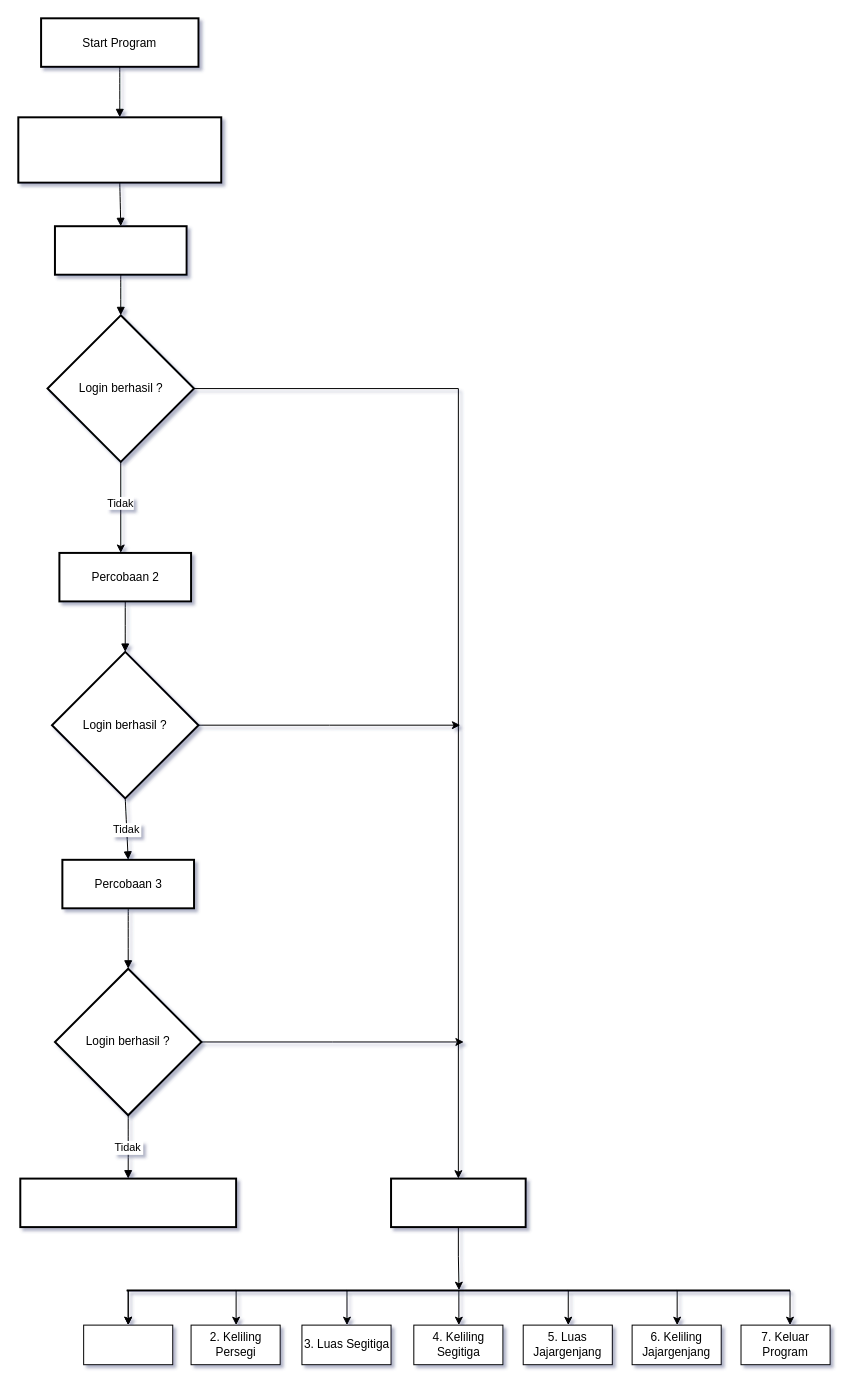
This 853x1388 diagram has some shape labels left out. The shapes that lost their labels are listed below. From the top down, each one's centre as x and y in pixels, then its label:
(119,149): Input Username and Password
(120,250): Percobaan 1
(128,1202): Keluar Program
(458,1202): Menu Program
(128,1344): 1. Luas Persegi
